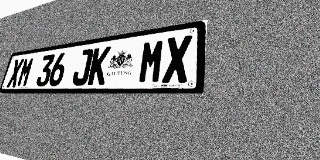3: (35, 54, 55, 87)
6: (47, 52, 69, 86)
J: (71, 48, 94, 86)
K: (87, 46, 111, 85)
M: (137, 38, 166, 84), (16, 57, 35, 87)
X: (162, 35, 192, 83), (6, 58, 24, 87)
